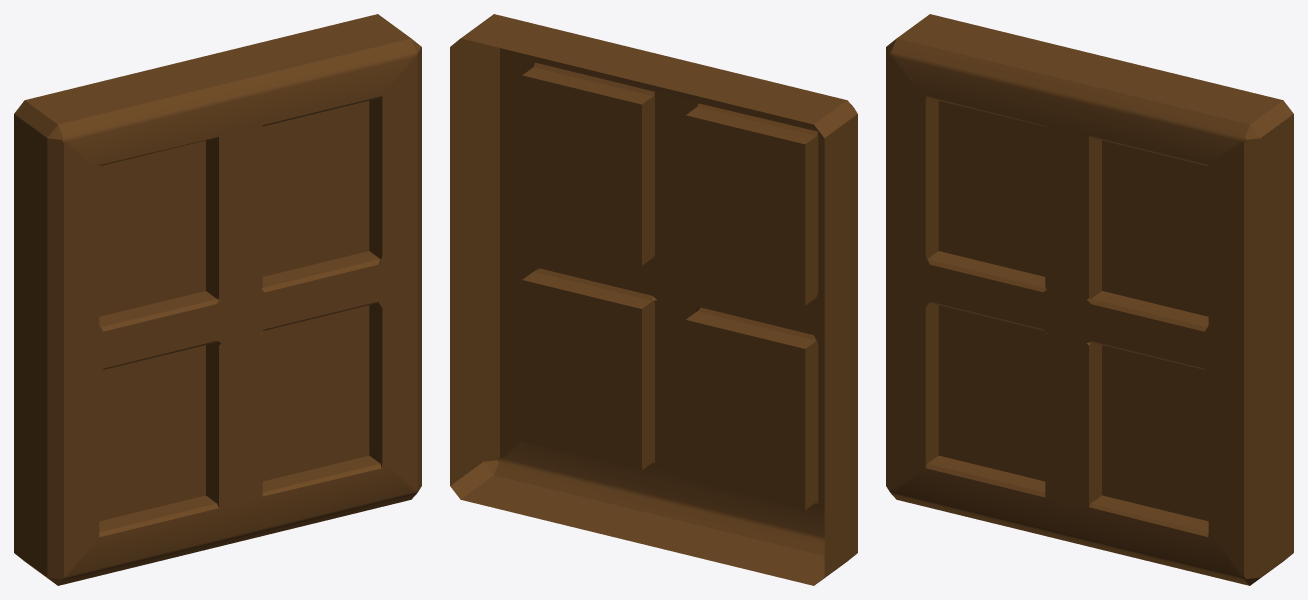
Rendered from VentanaSimple.fbx.
3 renders of one model, left to right at view 1: azimuth 30°, elevation 25°; view 2: azimuth 150°, elevation 25°; view 3: azimuth 330°, elevation 25°, orthographic.
Visible parts, largest first — view 1: pCube11; view 2: pCube11; view 3: pCube11.
Boxes of the visible parts, x1,y1,x2,y2 form: pCube11: (14, 14, 421, 585); pCube11: (450, 14, 857, 585); pCube11: (886, 14, 1293, 585).
Size of the model in its own units: 0.2934 by 0.3455 by 0.0536.
